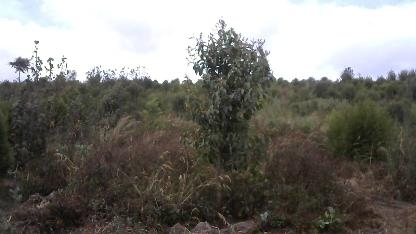tree: (177, 14, 276, 189)
